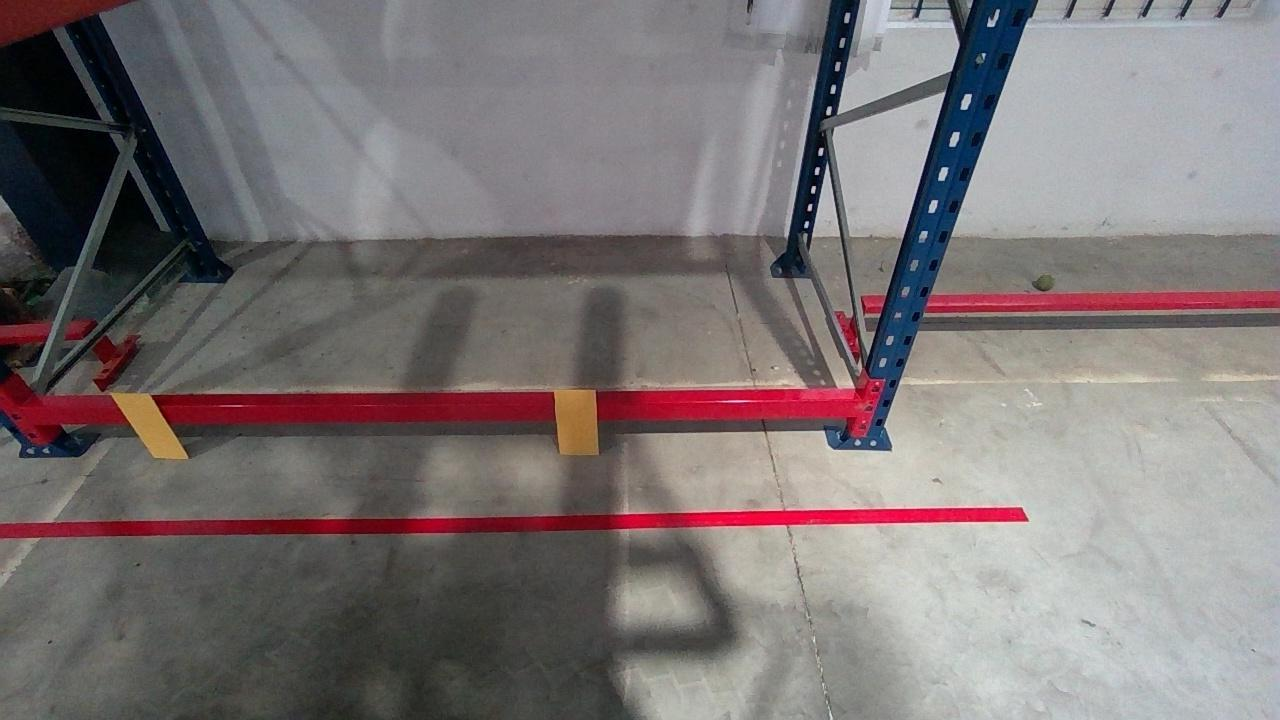h_rack: (2, 399, 864, 426)
orange_strip: (108, 394, 190, 458), (551, 388, 599, 455)
red_line: (0, 507, 1027, 536)
